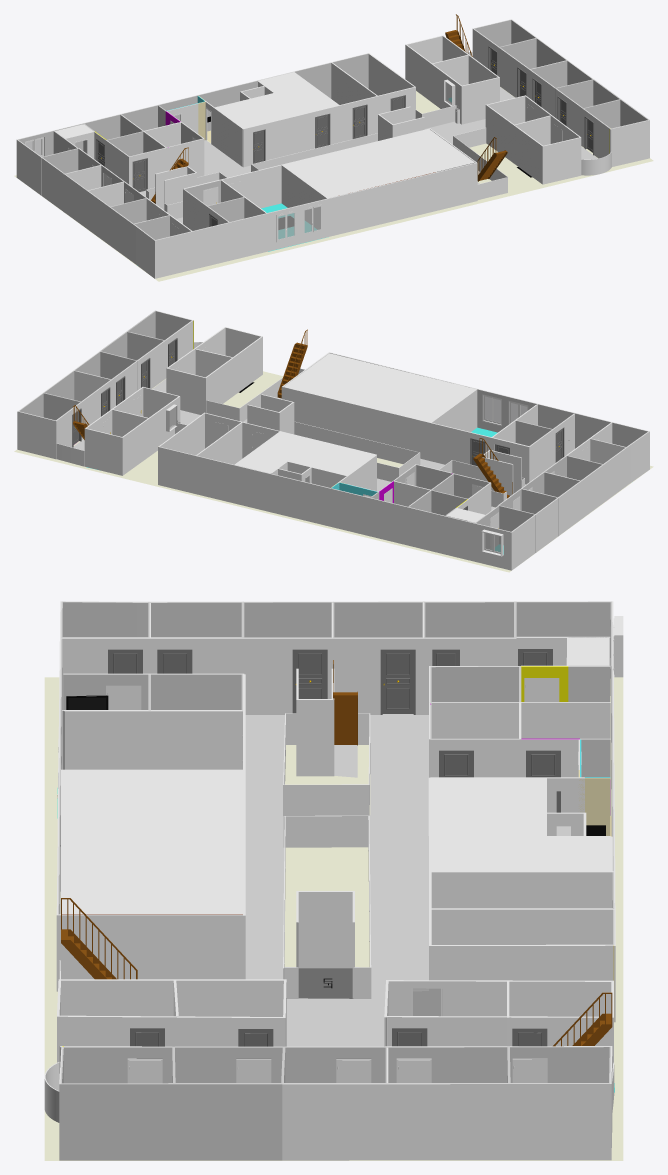
Rendered from 4th floor.obj.
3 views of the same model, one above another, from view 1: azimuth 30°, elevation 25°; view 2: azimuth 150°, elevation 25°; view 3: azimuth 270°, elevation 25° (orthographic). The views are drawn at different scales.
Parts seen in each view (by area): view 1: wall_1_5, room_159_771, ground_1, wall_76_424, wall_97_551, wall_70_388, wall_104_592, room_160_772, room_156_766, room_157_768, wall_73_406, wall_52_281 (+57 smaller); view 2: wall_97_550, wall_52_280, room_159_771, wall_112_640, wall_76_424, ground_1, wall_1_4, wall_70_388, room_156_766, wall_60_329, room_157_768, wall_77_430 (+50 smaller); view 3: room_160_772, room_159_771, wall_76_425, ground_1, wall_51_274, wall_84_472, wall_86_484, wall_85_478, wall_82_460, wall_70_389, wall_83_466, wall_98_556 (+47 smaller).
Boxes of the visible parts, x1=… form: wall_1_5: x1=155, y1=163, x2=477, y2=278; room_159_771: x1=283, y1=129, x2=474, y2=198; ground_1: x1=14, y1=87, x2=653, y2=281; wall_76_424: x1=472, y1=29, x2=611, y2=158; wall_97_551: x1=18, y1=81, x2=256, y2=156; wall_70_388: x1=485, y1=105, x2=542, y2=184; wall_104_592: x1=275, y1=106, x2=339, y2=157; room_160_772: x1=140, y1=87, x2=597, y2=223; room_156_766: x1=216, y1=93, x2=302, y2=129; room_157_768: x1=258, y1=72, x2=337, y2=113; wall_73_406: x1=542, y1=137, x2=581, y2=184; wall_52_281: x1=222, y1=165, x2=281, y2=208; wall_97_550: x1=271, y1=474, x2=511, y2=570; wall_52_280: x1=281, y1=387, x2=529, y2=484; room_159_771: x1=284, y1=353, x2=475, y2=422; wall_112_640: x1=158, y1=447, x2=271, y2=512; wall_76_424: x1=56, y1=321, x2=192, y2=458; ground_1: x1=14, y1=371, x2=653, y2=572; wall_1_4: x1=330, y1=353, x2=647, y2=448; wall_70_388: x1=206, y1=336, x2=262, y2=412; room_156_766: x1=288, y1=440, x2=375, y2=475; wall_60_329: x1=294, y1=422, x2=418, y2=464; room_157_768: x1=234, y1=432, x2=314, y2=473; wall_77_430: x1=17, y1=411, x2=56, y2=459; room_160_772: x1=245, y1=714, x2=570, y2=1046; room_159_771: x1=60, y1=770, x2=242, y2=913; wall_76_425: x1=60, y1=1047, x2=609, y2=1083; ground_1: x1=44, y1=677, x2=623, y2=1160; wall_51_274: x1=56, y1=915, x2=242, y2=991; wall_84_472: x1=387, y1=1084, x2=509, y2=1160; wall_86_484: x1=59, y1=1084, x2=174, y2=1160; wall_85_478: x1=174, y1=1084, x2=282, y2=1160; wall_82_460: x1=282, y1=1084, x2=386, y2=1160; wall_70_389: x1=61, y1=980, x2=283, y2=1016; wall_83_466: x1=509, y1=1084, x2=611, y2=1160; wall_98_556: x1=431, y1=872, x2=612, y2=908.
Size of the model in its own units: 3313 by 362 by 1677.
Materials: 53 (30 with a texture image).
